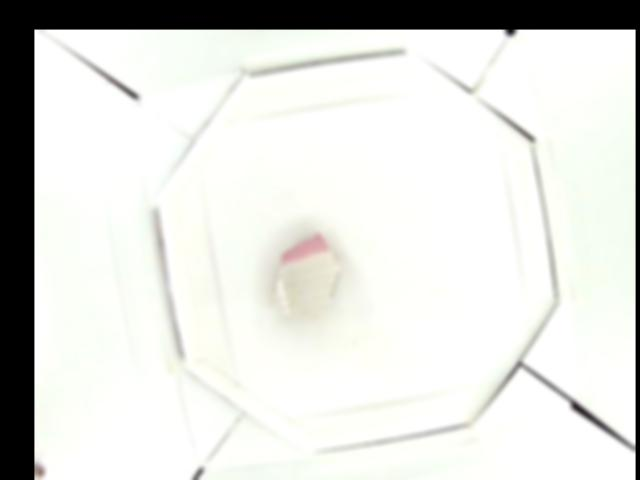China: (270, 229, 340, 314)
